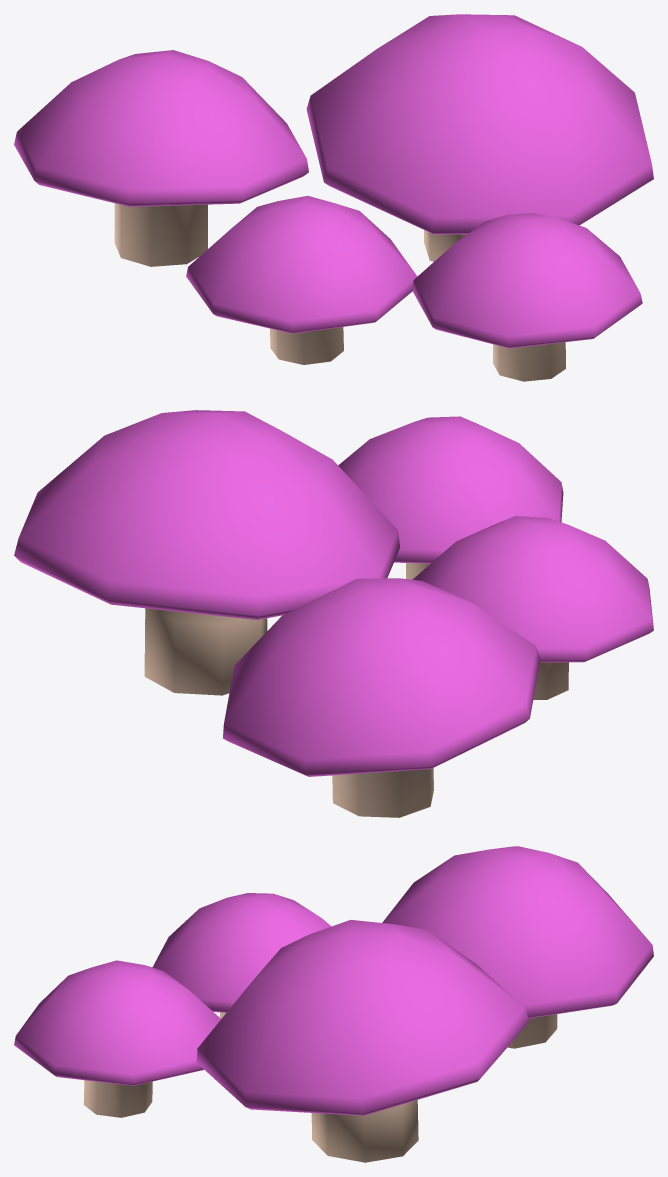
Rendered from Mushroom1.fbx.
The picture shows the model from 3 angles, top to bottom: view 1: azimuth 30°, elevation 25°; view 2: azimuth 150°, elevation 25°; view 3: azimuth 270°, elevation 25°; orthographic projection. The views are drawn at different scales.
Parts seen in each view (by area): view 1: Cylinder.001, Cylinder.002, Cylinder.004, Cylinder.003; view 2: Cylinder.001, Cylinder.002, Cylinder.003, Cylinder.004; view 3: Cylinder.001, Cylinder.002, Cylinder.004, Cylinder.003.
Boxes of the visible parts, x1,y1,x2,y2 form: Cylinder.001: [306, 14, 653, 261]; Cylinder.002: [14, 50, 308, 266]; Cylinder.004: [412, 213, 642, 381]; Cylinder.003: [186, 195, 417, 364]; Cylinder.001: [14, 410, 399, 695]; Cylinder.002: [223, 578, 540, 817]; Cylinder.003: [413, 516, 653, 699]; Cylinder.004: [338, 416, 563, 579]; Cylinder.001: [196, 920, 529, 1162]; Cylinder.002: [382, 846, 653, 1048]; Cylinder.004: [14, 960, 220, 1117]; Cylinder.003: [152, 893, 331, 1018].
Bounding box in the file's own units: 345 × 141 × 392.
